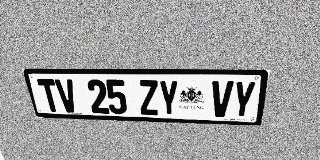2: (86, 79, 110, 114)
5: (105, 80, 128, 114)
T: (36, 79, 62, 112)
V: (210, 81, 234, 117), (54, 79, 79, 113)
Y: (231, 81, 257, 118), (158, 80, 178, 116)
Z: (138, 80, 159, 115)
